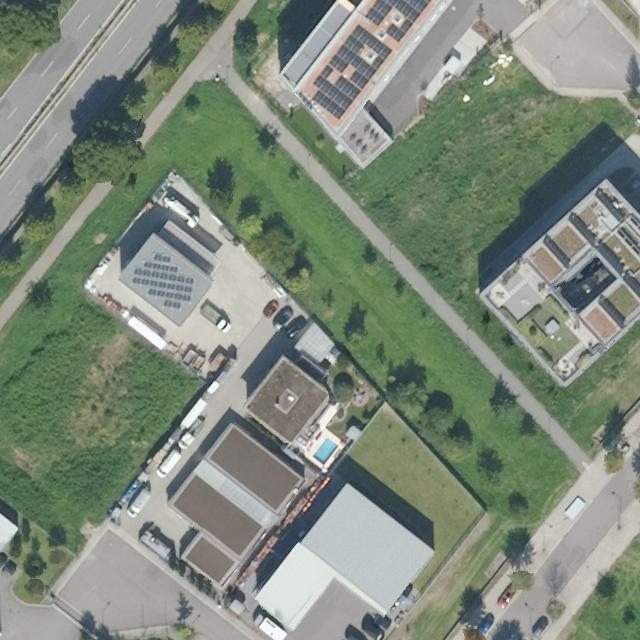PV: (306, 1, 436, 125), (129, 250, 197, 312)
